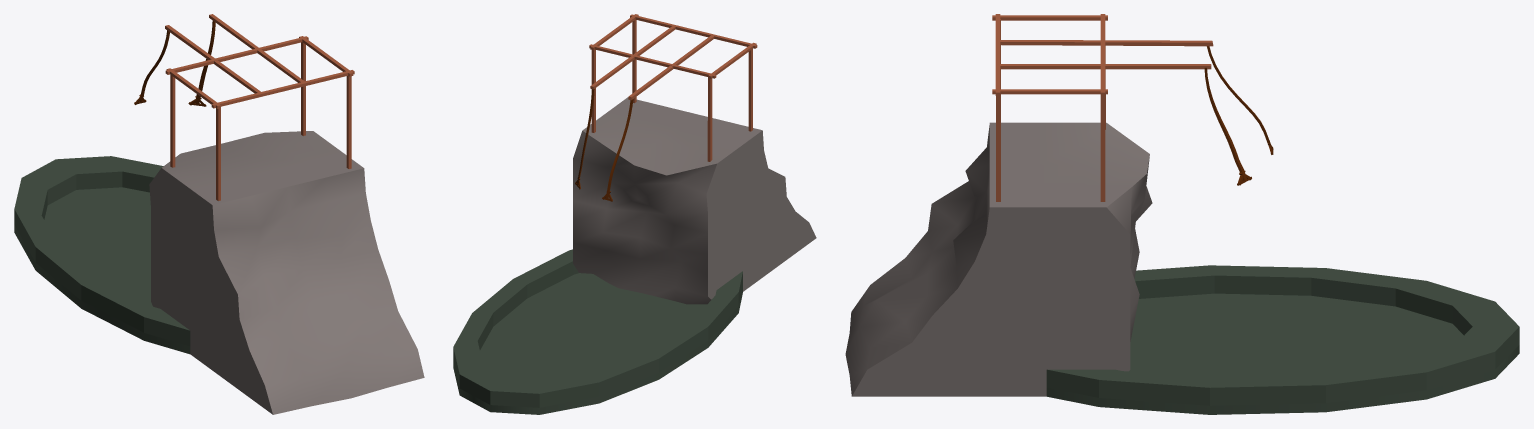
The model's file is LeapOfFaith_01.fbx.
The picture shows the model from 3 angles, left to right: view 1: azimuth 30°, elevation 25°; view 2: azimuth 150°, elevation 25°; view 3: azimuth 270°, elevation 25°; orthographic projection. The views are drawn at different scales.
Parts seen in each view (by area): view 1: pasted__pasted__pasted__pasted__pCube2; view 2: pasted__pasted__pasted__pasted__pCube2; view 3: pasted__pasted__pasted__pasted__pCube2.
Part boxes in pixels (box(x1,y1,x2,y2)): pasted__pasted__pasted__pasted__pCube2: box(14, 14, 424, 414); pasted__pasted__pasted__pasted__pCube2: box(453, 14, 816, 414); pasted__pasted__pasted__pasted__pCube2: box(845, 14, 1519, 414).
Bounding box in the file's own units: 4.66 × 5.32 × 10.83.
